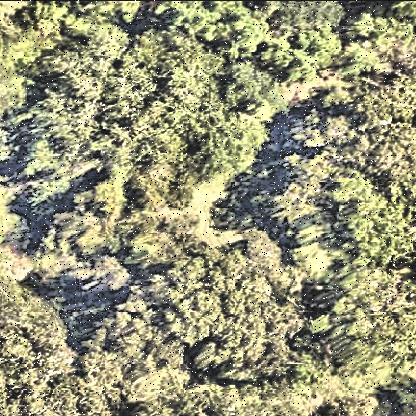tree-top: (18, 37, 262, 201), (172, 241, 307, 385), (326, 263, 416, 383), (322, 67, 416, 163), (334, 173, 415, 263), (269, 2, 355, 76), (343, 1, 411, 53), (84, 253, 133, 299)
